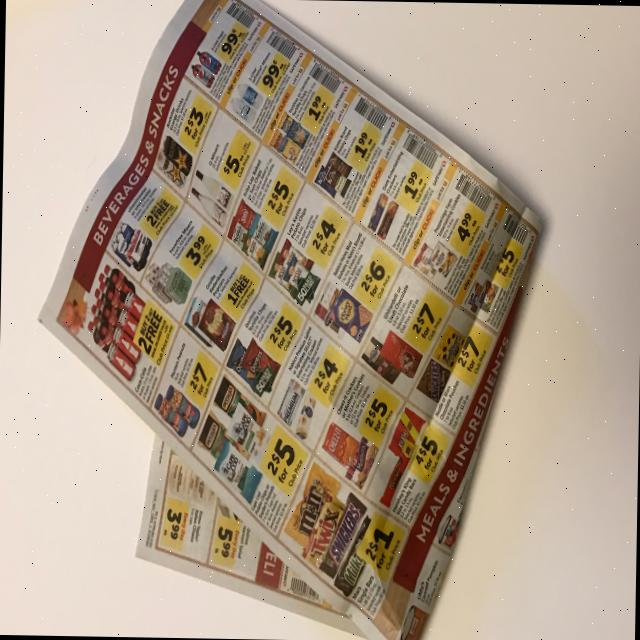paper: (29, 0, 547, 640)
